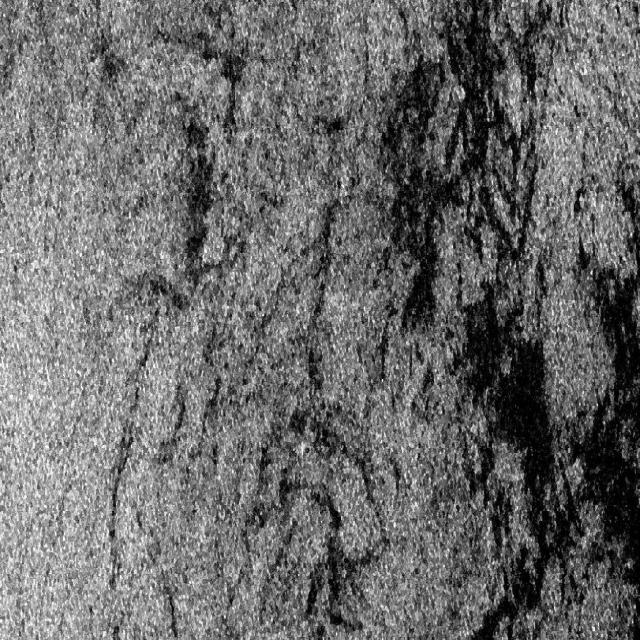look-alike: (365, 26, 528, 309), (440, 286, 574, 600), (239, 336, 375, 618), (101, 336, 195, 631), (575, 228, 639, 599), (160, 108, 245, 294), (171, 12, 260, 96), (88, 22, 131, 128)
